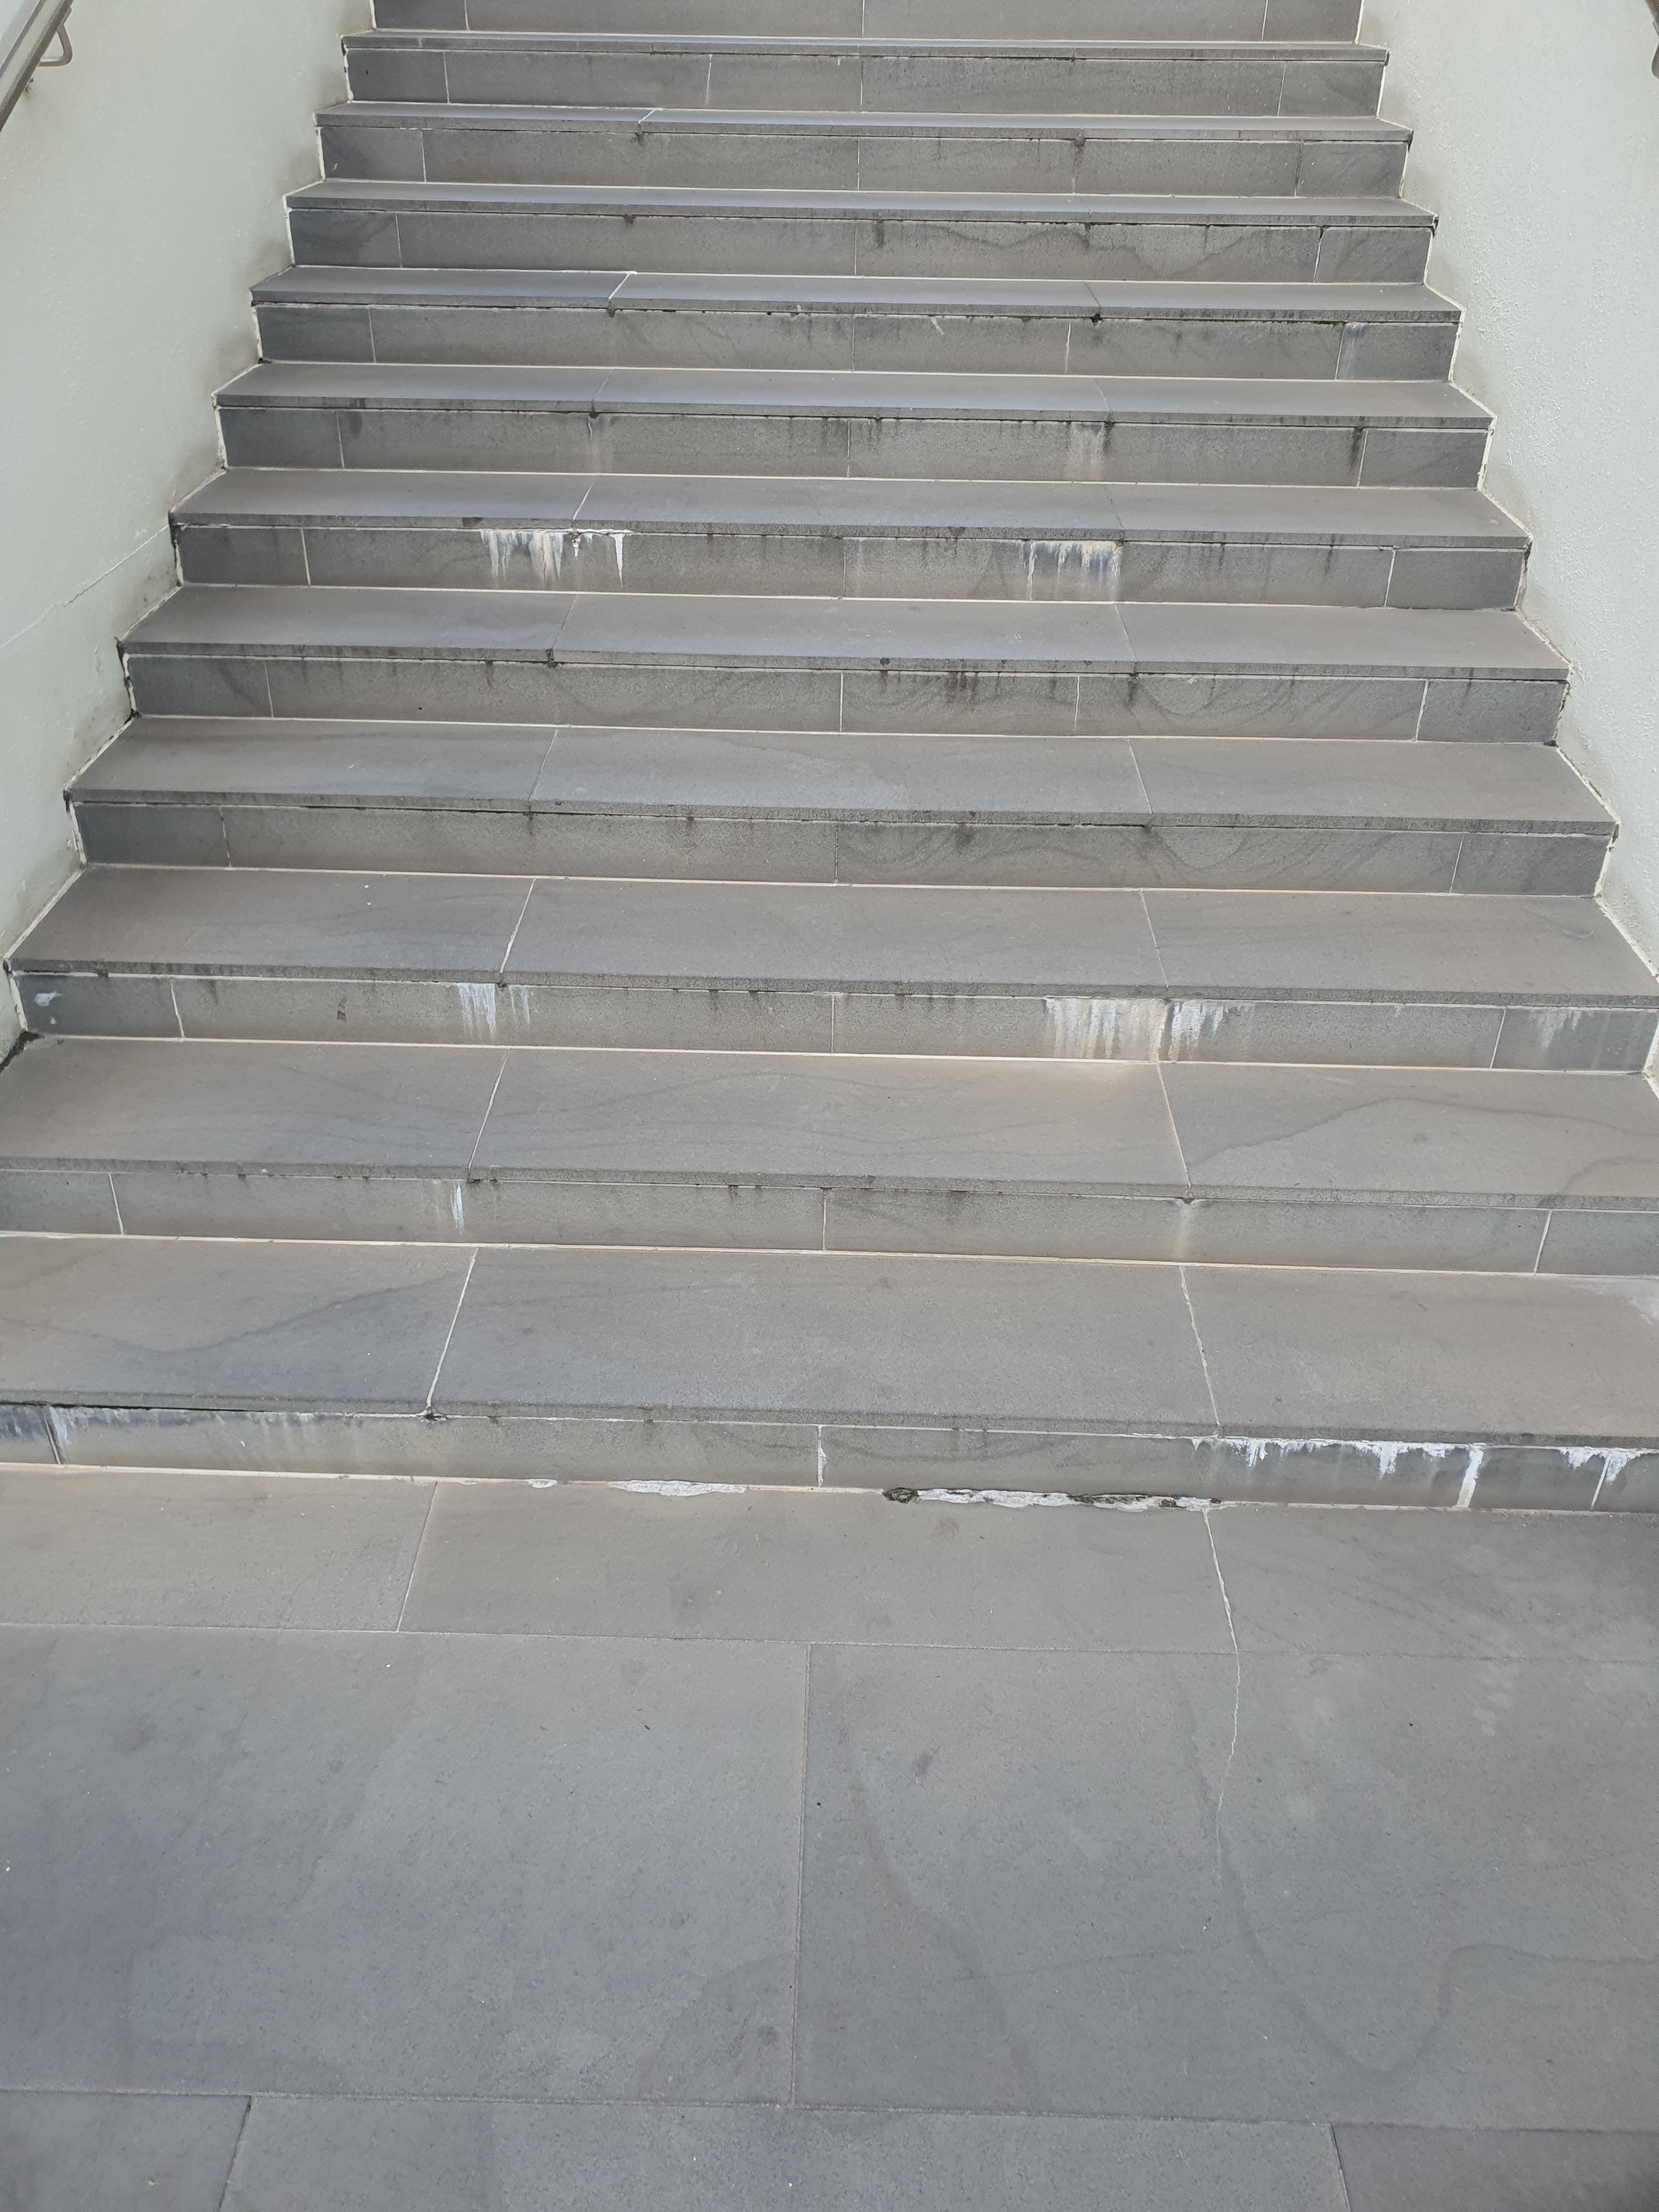upstairs: (209, 719, 1506, 1881)
